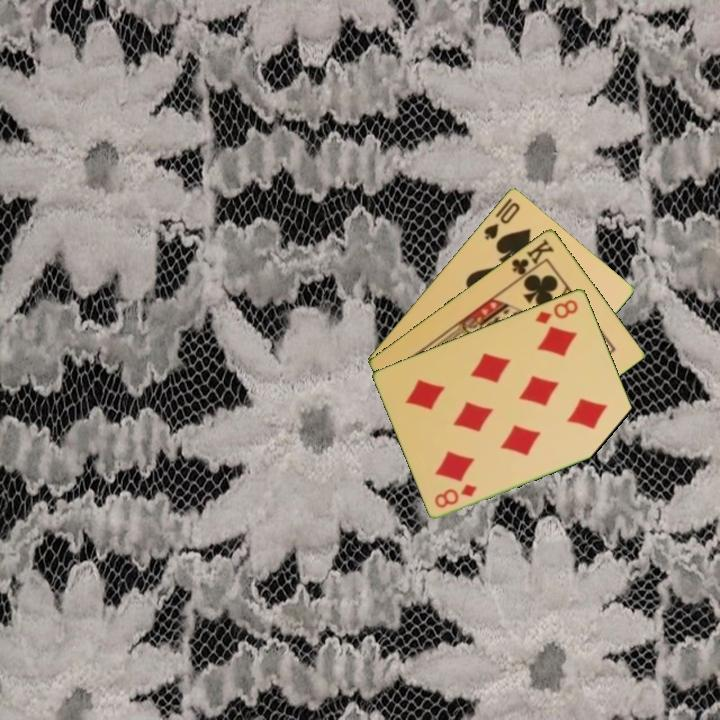10s: (480, 198, 523, 243)
8d: (531, 295, 581, 327), (431, 480, 480, 511)
Kc: (508, 235, 557, 282)
